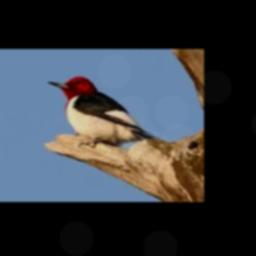Woodpecker: (48, 77, 155, 144)
